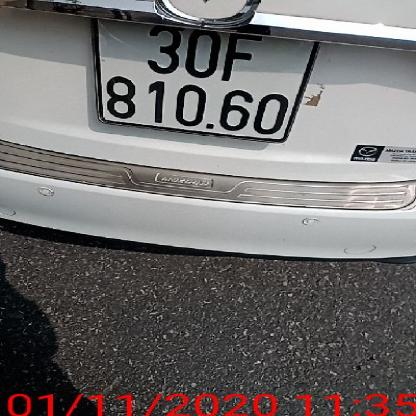biensoxe: (91, 17, 324, 144)
